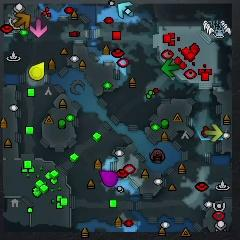p3: (99, 170, 119, 187)
p4: (30, 62, 45, 81)
x1: (30, 19, 49, 39)
x2: (204, 124, 223, 142)
x3: (118, 2, 135, 19)
x4: (161, 59, 179, 77)
x5: (14, 12, 31, 30)
